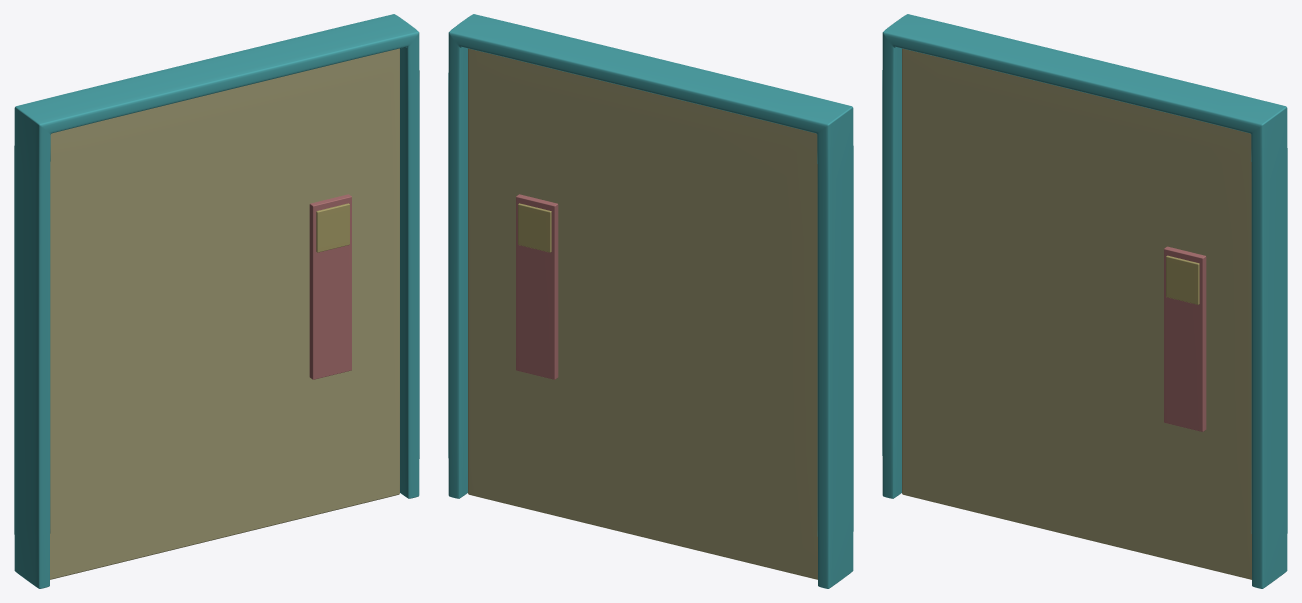
File: Door_Wide.fbx
The picture shows the model from 3 angles, left to right: view 1: azimuth 30°, elevation 25°; view 2: azimuth 150°, elevation 25°; view 3: azimuth 330°, elevation 25°; orthographic projection.
Parts seen in each view (by area): view 1: Door_Main, Door_Frame; view 2: Door_Main, Door_Frame; view 3: Door_Main, Door_Frame.
Part boxes in pixels (x1,y1,x2,y2): Door_Main: (50, 48, 399, 579); Door_Frame: (14, 14, 419, 588); Door_Main: (468, 48, 817, 579); Door_Frame: (448, 14, 853, 588); Door_Main: (902, 48, 1251, 579); Door_Frame: (882, 14, 1287, 588).
Bounding box in the file's own units: 6 × 7 × 0.7.
